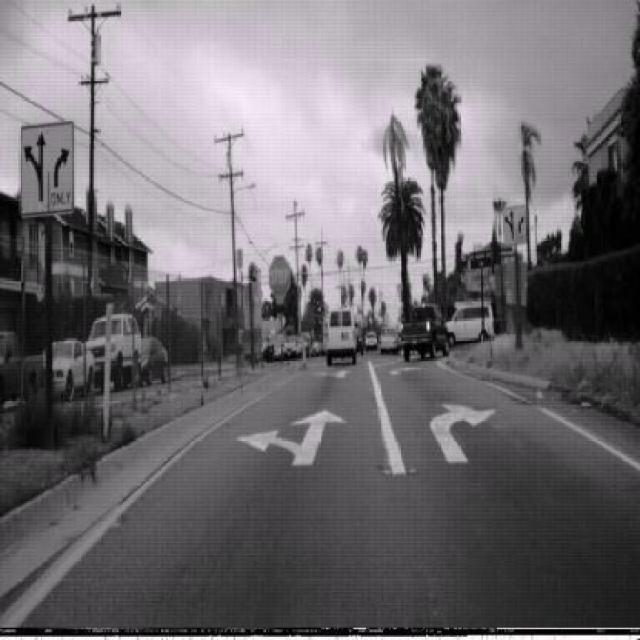stop: (268, 254, 290, 299)
